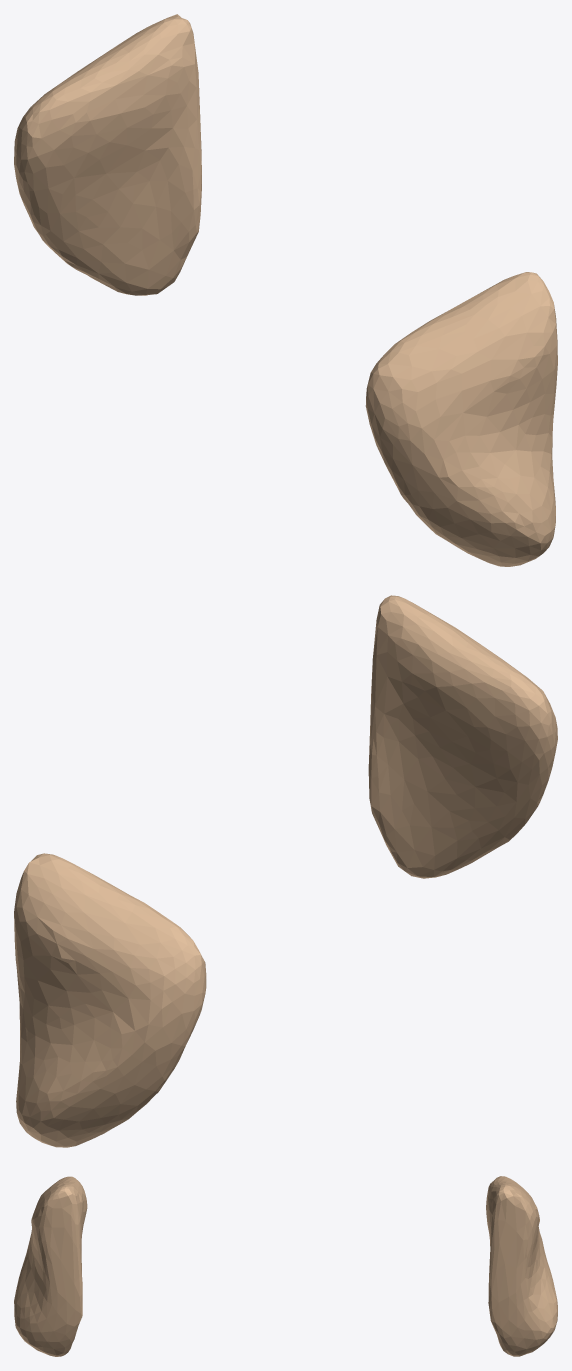
3 renders of one model, top to bottom at view 1: azimuth 30°, elevation 25°; view 2: azimuth 150°, elevation 25°; view 3: azimuth 270°, elevation 25°, orthographic. The views are drawn at different scales.
Parts seen in each view (by area): view 1: 7.obj; view 2: 7.obj; view 3: 7.obj.
Boxes of the visible parts, left/top/right/bottom form: 7.obj: left=14, top=14, right=557, bottom=566; 7.obj: left=14, top=595, right=557, bottom=1147; 7.obj: left=14, top=1176, right=557, bottom=1356.
Size of the model in its own units: 1134 by 1725 by 4846.
